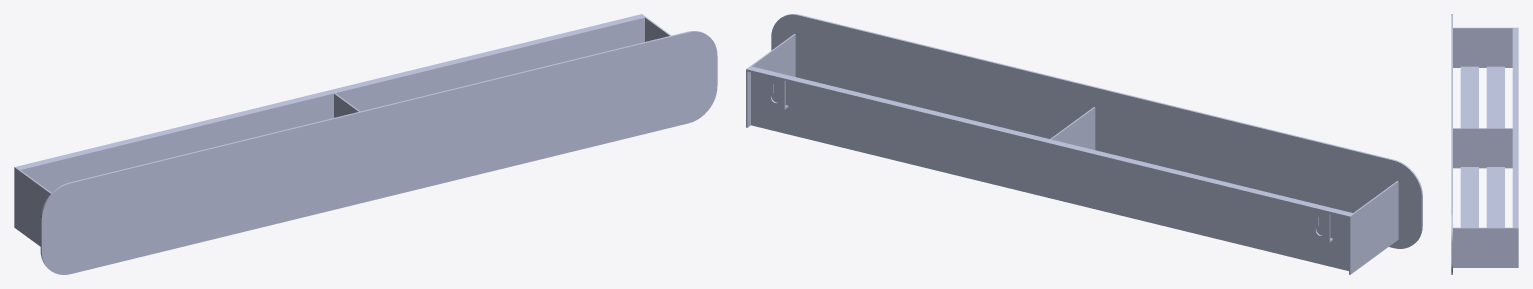
The model's file is radius-mono.4693240ad0.glb.
The picture shows the model from 3 angles, left to right: view 1: azimuth 30°, elevation 25°; view 2: azimuth 150°, elevation 25°; view 3: azimuth 270°, elevation 25°; orthographic projection. The views are drawn at different scales.
Visible parts, largest first — view 1: NAUO1; view 2: NAUO1; view 3: NAUO1.
Part boxes in pixels (x1,y1,x2,y2): NAUO1: [14, 14, 717, 274]; NAUO1: [746, 14, 1422, 274]; NAUO1: [1451, 14, 1518, 274].
Bounding box in the file's own units: 0.7 × 0.09 × 0.092.
